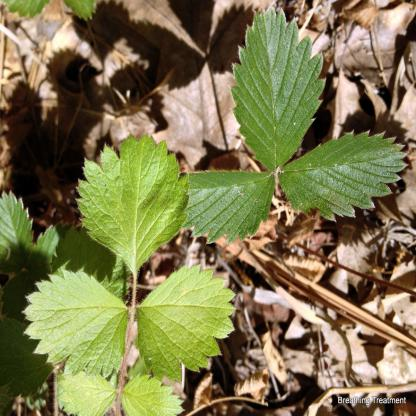Strawberry leaf: (232, 3, 327, 172), (82, 127, 192, 272), (131, 254, 232, 382), (283, 126, 408, 227), (23, 267, 135, 373), (178, 173, 277, 242)
